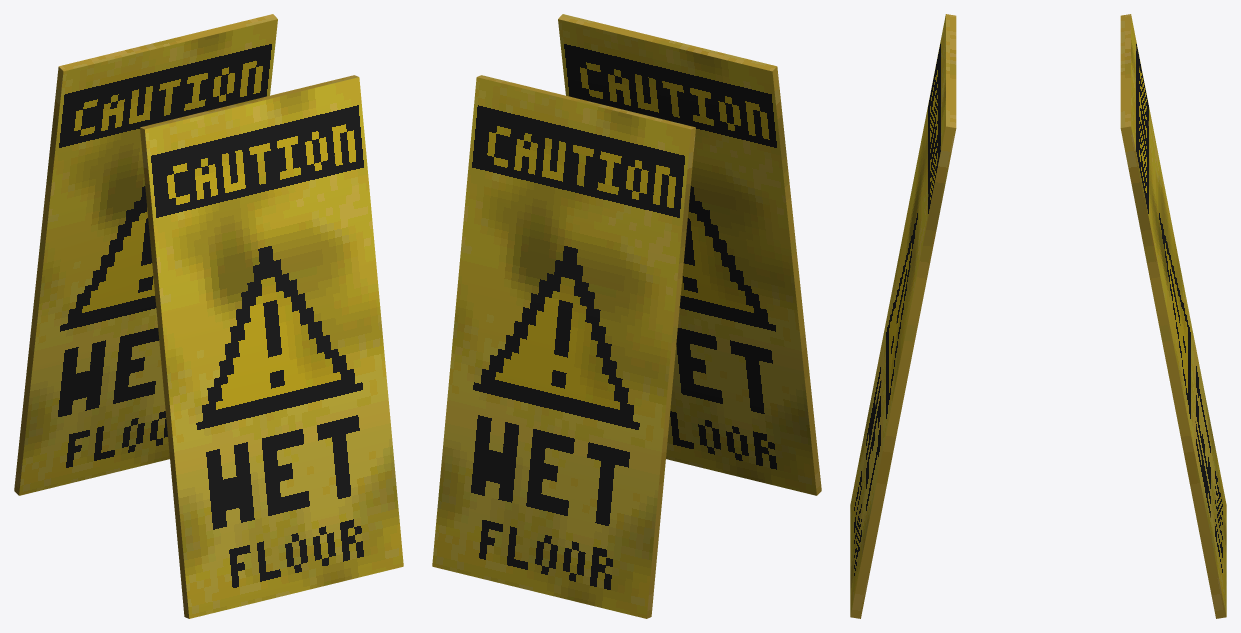
File: wet_floor_sign.glb
3 renders of one model, left to right at view 1: azimuth 30°, elevation 25°; view 2: azimuth 150°, elevation 25°; view 3: azimuth 270°, elevation 25°, orthographic. The views are drawn at different scales.
Parts seen in each view (by area): view 1: wet_floor_sign; view 2: wet_floor_sign; view 3: wet_floor_sign.
Boxes of the visible parts, x1=… form: wet_floor_sign: x1=14, y1=14, x2=403, y2=618; wet_floor_sign: x1=432, y1=14, x2=821, y2=618; wet_floor_sign: x1=850, y1=14, x2=1226, y2=618.
Size of the model in its own units: 0.3 by 0.6127 by 0.4241.
1 material, 1 textured.
